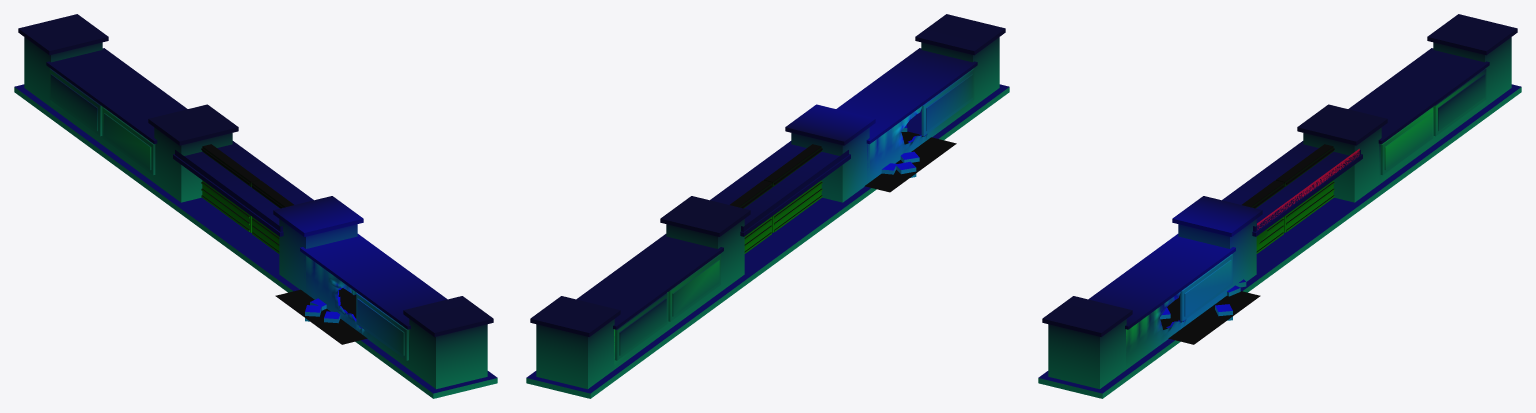
File: s_lightgate_damaged.glb
The picture shows the model from 3 angles, left to right: view 1: azimuth 30°, elevation 25°; view 2: azimuth 150°, elevation 25°; view 3: azimuth 330°, elevation 25°; orthographic projection.
Parts seen in each view (by area): view 1: lod0, door_l, door_r; view 2: lod0, door_r, door_l; view 3: lod0, door_l, door_r.
Part boxes in pixels (x1,y1,x2,y2): lod0: [14, 14, 497, 398]; door_l: [201, 144, 259, 232]; door_r: [252, 180, 293, 253]; lod0: [526, 14, 1009, 398]; door_r: [764, 144, 822, 232]; door_l: [730, 180, 771, 253]; lod0: [1038, 14, 1521, 398]; door_l: [1276, 144, 1334, 232]; door_r: [1242, 180, 1283, 253].
Size of what is drawn, in the model's own units: 8 by 5.12 by 56.4.
